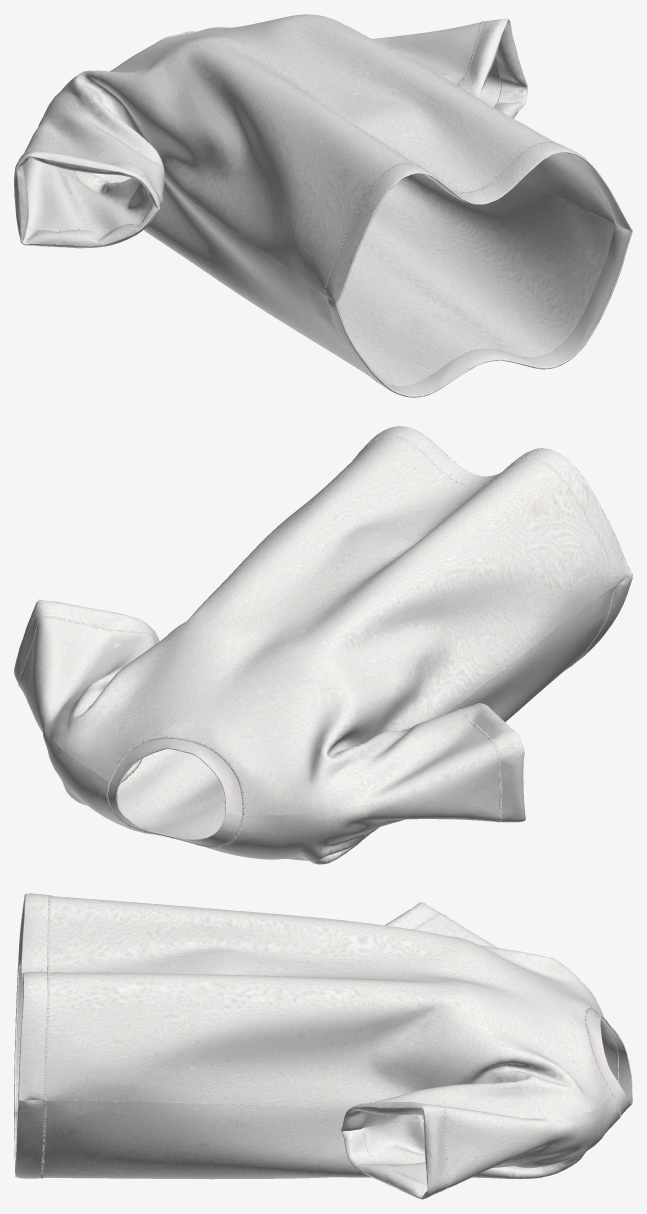
Rendered from new_shirt.obj.
3 renders of one model, top to bottom at view 1: azimuth 30°, elevation 25°; view 2: azimuth 150°, elevation 25°; view 3: azimuth 270°, elevation 25°, orthographic. The views are drawn at different scales.
Parts seen in each view (by area): view 1: playera_unbiuda_respaldo.001; view 2: playera_unbiuda_respaldo.001; view 3: playera_unbiuda_respaldo.001.
Boxes of the visible parts, bbox=[...] form: playera_unbiuda_respaldo.001: bbox=[14, 14, 632, 397]; playera_unbiuda_respaldo.001: bbox=[14, 426, 632, 864]; playera_unbiuda_respaldo.001: bbox=[14, 893, 632, 1199].
Size of the model in its own units: 3.03 by 1.28 by 3.34.
